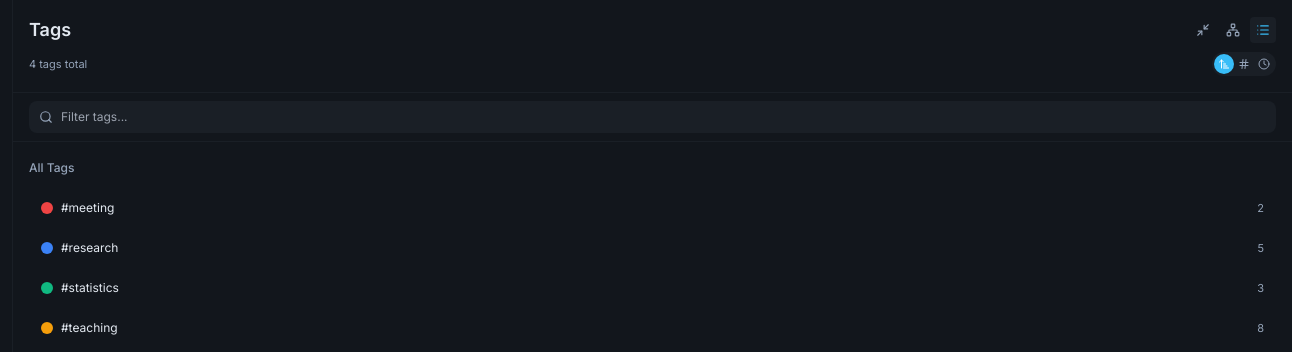
Test case: TagsPanel Component › Tag Editing › shows context menu on right-click in flat view
Expected: the text "#research" is shown, [61,238,118,258]
Right-click the button "#research 5": (94, 248) [29,230,1276,266]
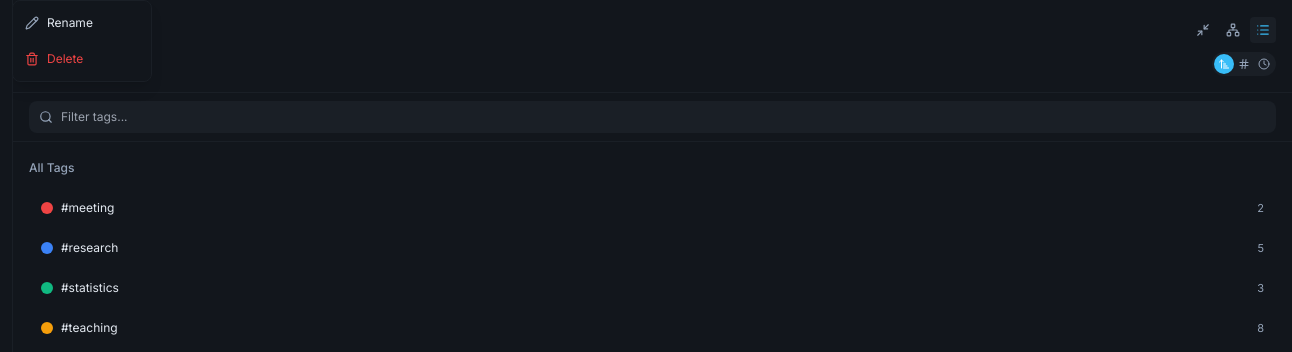
Expected: the button "Rename" is shown, [13,5,151,41]
Expected: the button "Delete" is shown, [13,41,151,77]
